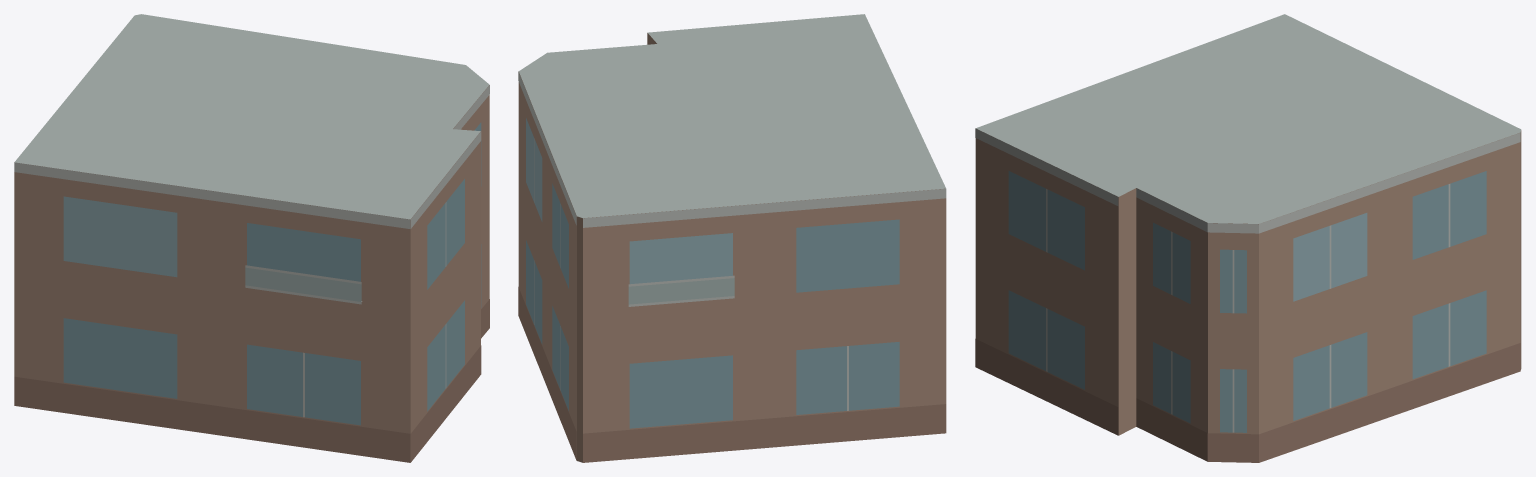
Rendered from survey-upis-32892352.glb.
The picture shows the model from 3 angles, left to right: view 1: azimuth 30°, elevation 25°; view 2: azimuth 150°, elevation 25°; view 3: azimuth 270°, elevation 25°; orthographic projection. The views are drawn at different scales.
Visible parts, largest first — view 1: survey-upis-32892352.tmp; view 2: survey-upis-32892352.tmp; view 3: survey-upis-32892352.tmp.
Boxes of the visible parts, <box> form: survey-upis-32892352.tmp: <box>14,14,489,462</box>; survey-upis-32892352.tmp: <box>518,14,946,462</box>; survey-upis-32892352.tmp: <box>975,14,1521,462</box>.
Bounding box in the file's own units: 11.51 × 6.1 × 12.65.
